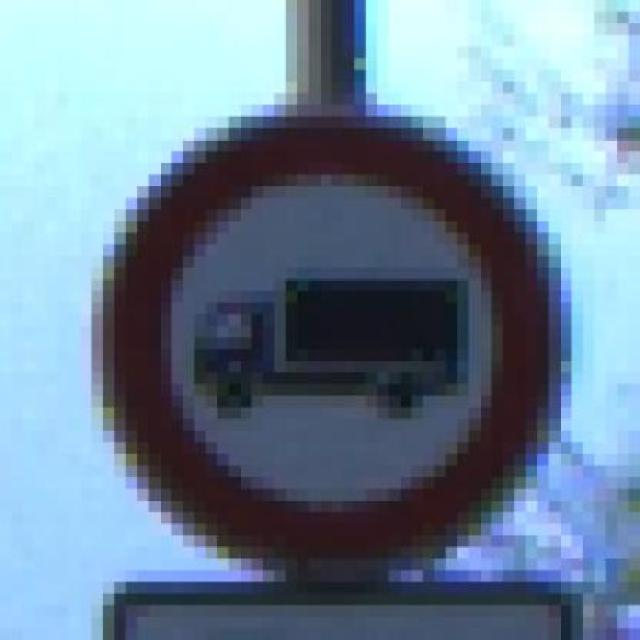Truck traffic is prohibited: (87, 81, 579, 593)
